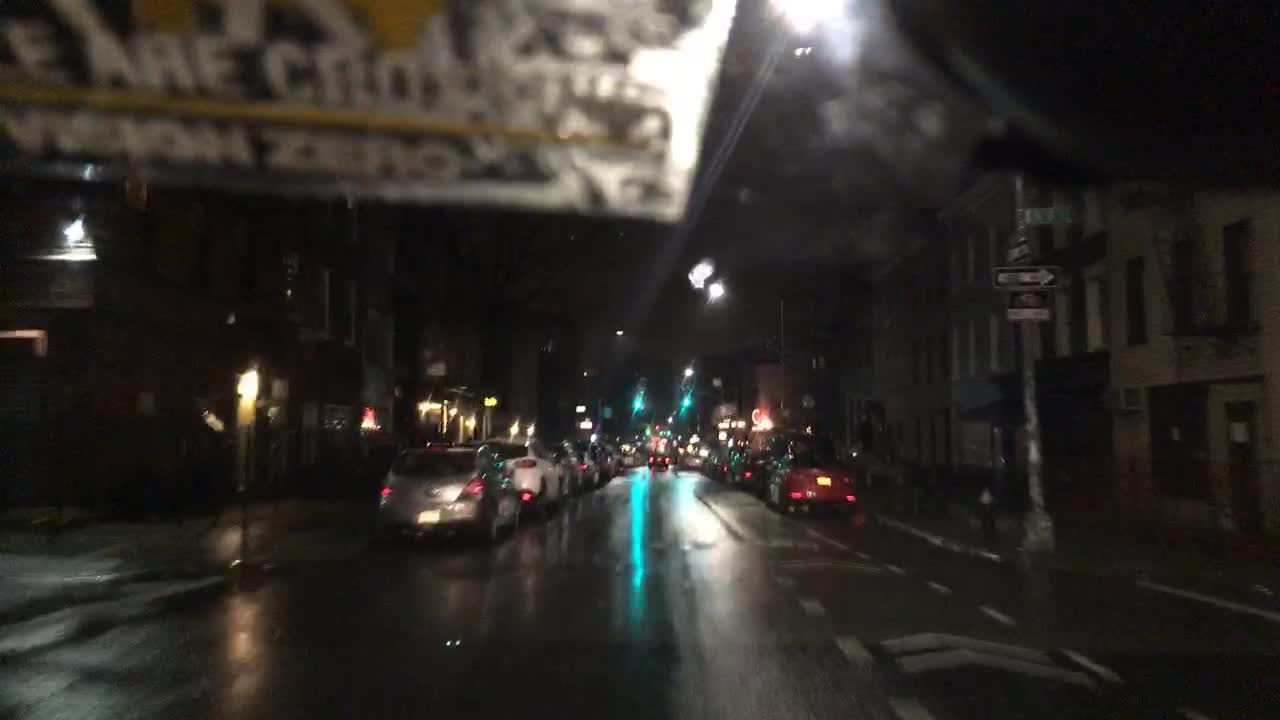car: (373, 446, 521, 542), (458, 439, 563, 517), (761, 448, 857, 512), (547, 436, 590, 492), (750, 451, 790, 500), (719, 446, 757, 487), (571, 441, 603, 485), (699, 444, 740, 478), (590, 436, 622, 475), (613, 443, 638, 468), (644, 449, 671, 470), (686, 446, 708, 470)
traffic light: (631, 391, 643, 410), (680, 390, 692, 408), (585, 430, 597, 445)
traffic sign: (992, 265, 1056, 287), (1022, 206, 1073, 224), (1005, 304, 1051, 322), (1005, 239, 1029, 261), (597, 401, 612, 422), (572, 401, 587, 415), (577, 418, 590, 428)
